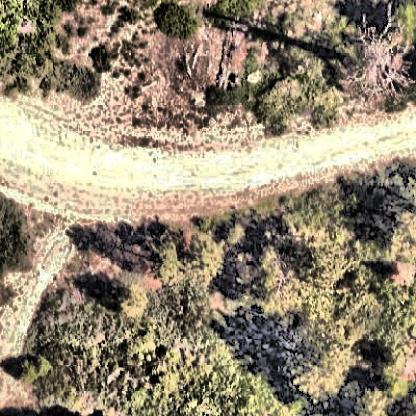tree-top: (267, 305, 357, 398), (332, 19, 416, 107), (236, 241, 290, 302), (140, 232, 189, 291), (363, 343, 416, 395), (145, 1, 207, 44), (184, 225, 225, 283), (10, 341, 53, 385)
